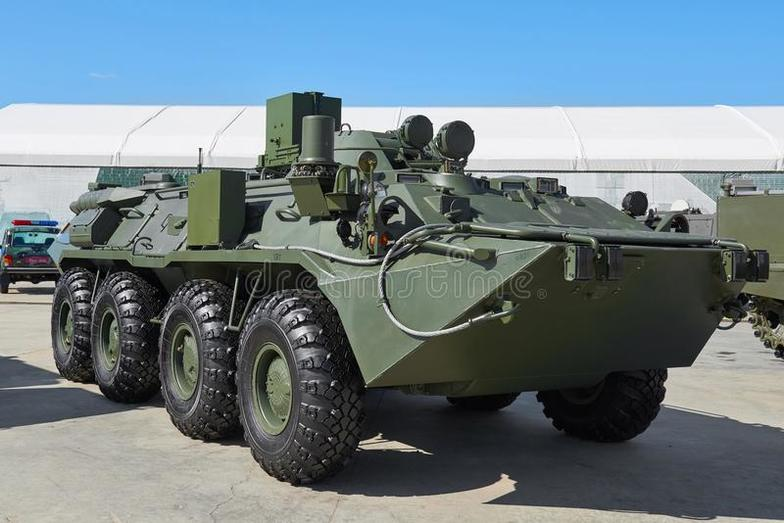btr: (63, 94, 726, 457)
